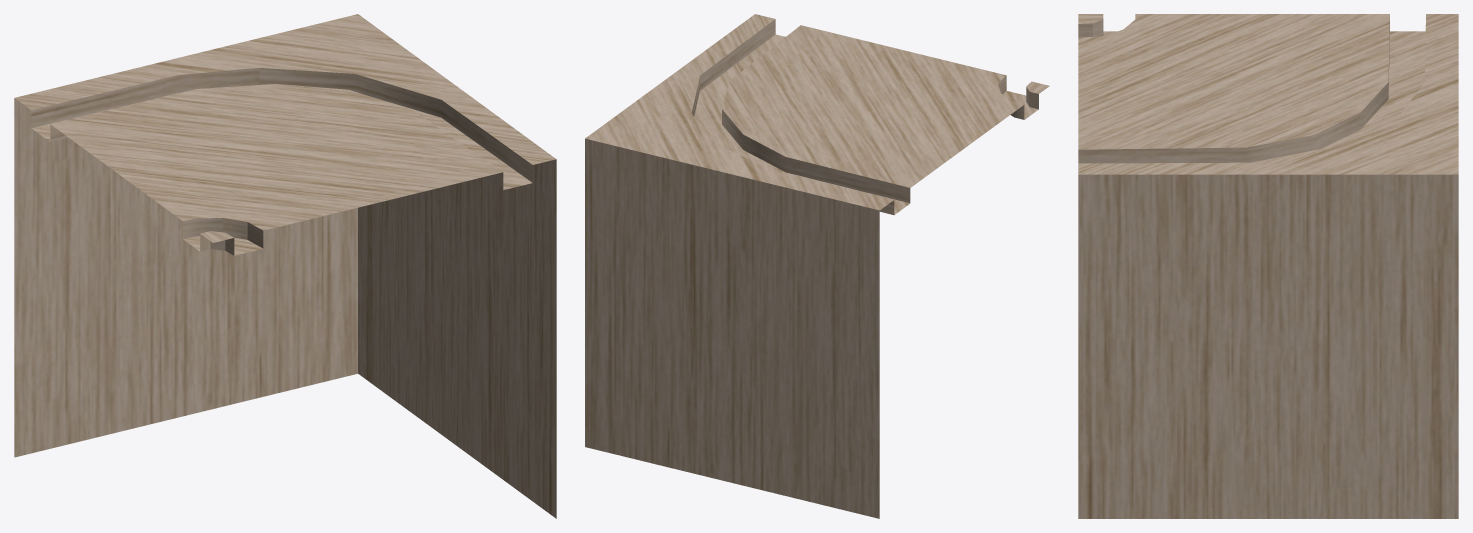
The model's file is AngoloPasserella.obj.
The picture shows the model from 3 angles, left to right: view 1: azimuth 30°, elevation 25°; view 2: azimuth 150°, elevation 25°; view 3: azimuth 270°, elevation 25°; orthographic projection. The views are drawn at different scales.
Parts seen in each view (by area): view 1: pCube2; view 2: pCube2; view 3: pCube2.
Part boxes in pixels (box(x1,y1,x2,y2)): pCube2: box(14, 14, 556, 518); pCube2: box(585, 14, 1049, 518); pCube2: box(1078, 14, 1458, 518).
Bounding box in the file's own units: 1 × 1 × 1.
